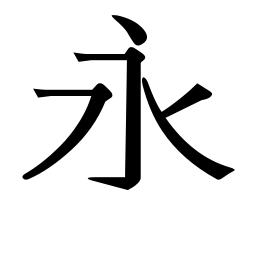D: (110, 11, 150, 45)
HSZ: (119, 46, 144, 72)
Hs: (71, 50, 107, 63)
Ne: (204, 152, 238, 185)
PNc: (148, 103, 174, 130)
PZe: (21, 157, 53, 183)
Ps: (188, 80, 216, 103)
SG: (86, 160, 142, 193)
Sm: (123, 108, 144, 143)
TPZ: (80, 81, 114, 123)
Ts: (30, 84, 57, 102)
